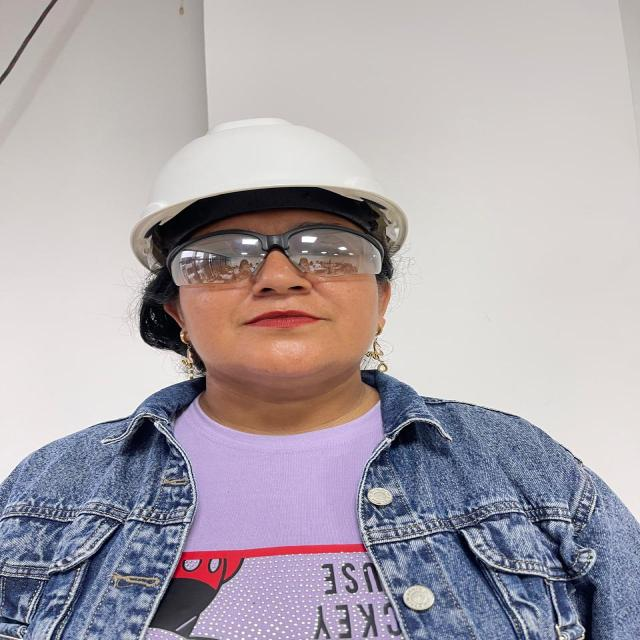helmet: (129, 117, 407, 268)
protective_glasses: (166, 226, 387, 290)
